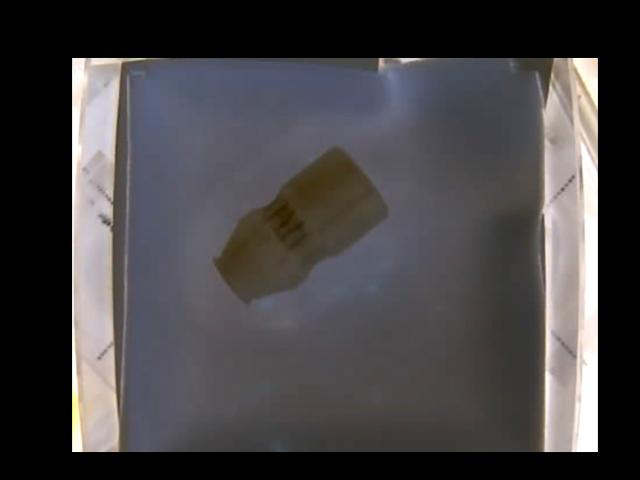Bottle: (210, 145, 390, 305)
